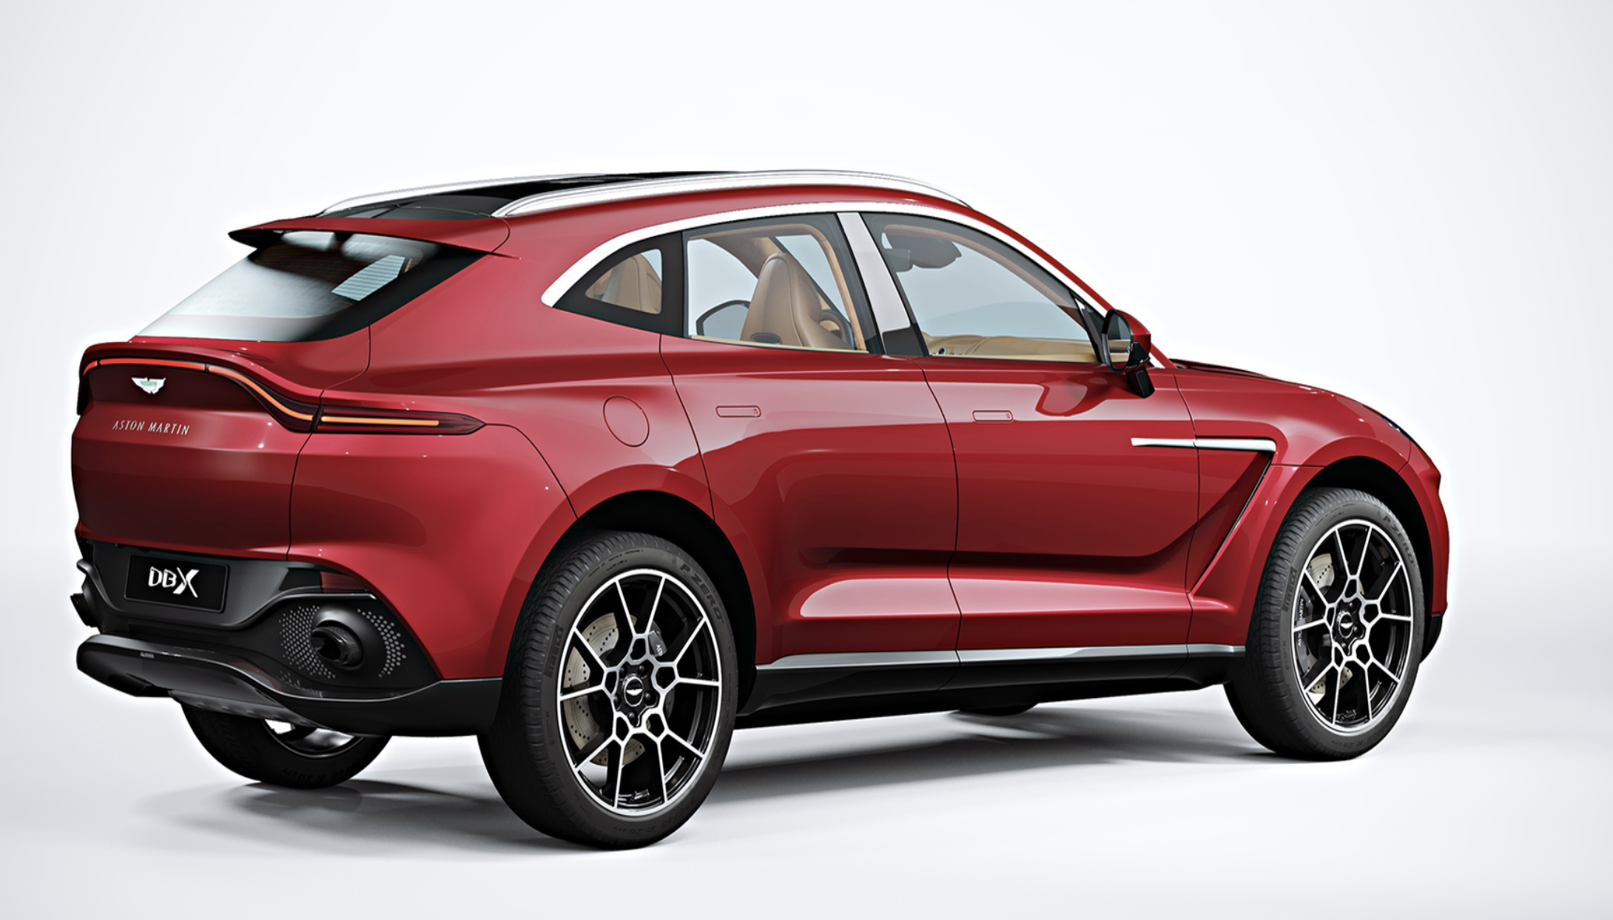hatch: (597, 390, 658, 454)
